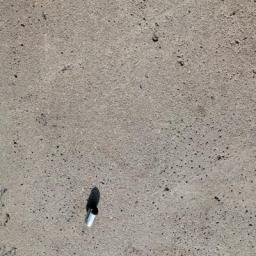FOD: (86, 187, 104, 230)
